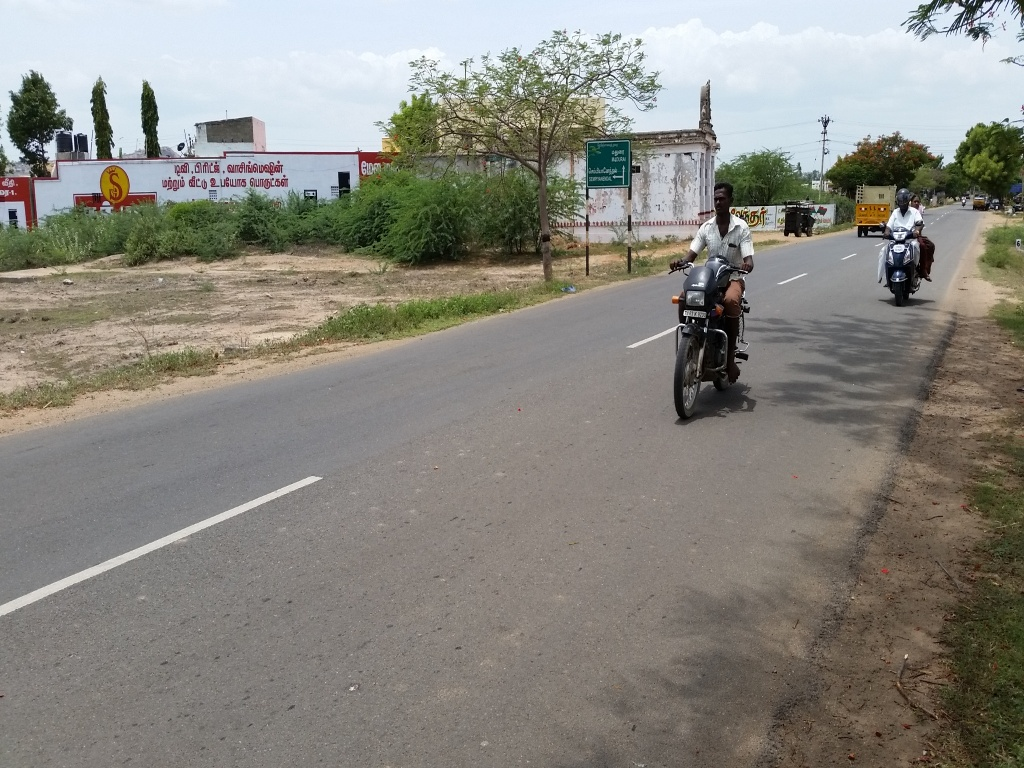biker: (637, 149, 786, 435), (865, 166, 958, 315)
helmet: (893, 180, 912, 215)
nohelmet: (705, 176, 740, 231), (912, 189, 925, 214)
